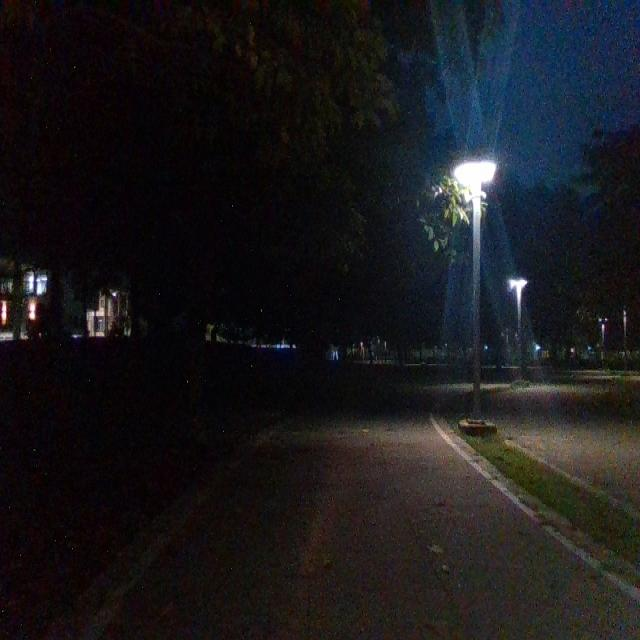lane: (105, 423, 635, 635)
